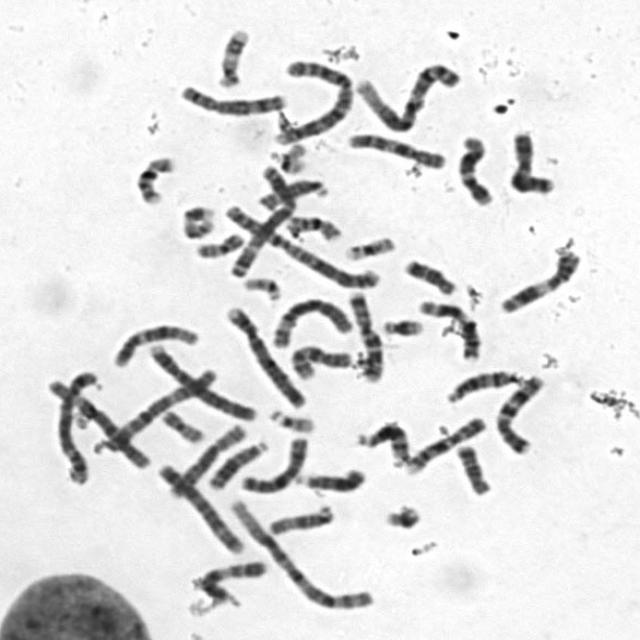A1: (223, 491, 378, 612), (350, 54, 464, 134)
A2: (220, 197, 384, 290), (265, 52, 356, 146)
A3: (88, 362, 220, 456), (223, 158, 298, 278)
B4: (141, 337, 261, 423), (219, 299, 309, 409)
B5: (150, 456, 246, 556), (48, 364, 103, 486)
C10: (340, 125, 449, 170), (283, 338, 355, 382)
C11: (492, 243, 586, 315), (412, 292, 485, 362)
C12: (106, 315, 202, 368), (452, 128, 497, 208)
C6: (40, 371, 154, 470), (266, 291, 355, 350)
C7: (488, 367, 548, 457), (341, 284, 386, 384)
C8: (161, 416, 250, 500), (172, 78, 290, 117)
C9: (400, 409, 489, 476), (188, 554, 271, 606)
D13: (200, 432, 272, 491), (287, 460, 369, 494)
D14: (439, 362, 525, 405), (349, 414, 414, 468)
D15: (251, 171, 331, 211), (262, 497, 338, 537)
E16: (128, 148, 179, 206), (279, 207, 344, 242)
E17: (210, 21, 252, 90), (175, 199, 218, 241)
E18: (397, 252, 460, 296), (450, 437, 495, 497)
F19: (338, 229, 398, 262), (266, 136, 310, 176)
F20: (154, 403, 208, 444), (189, 225, 247, 259)
G21: (378, 497, 425, 531), (375, 311, 426, 338)
G22: (262, 402, 319, 433), (237, 270, 285, 302)
X: (233, 428, 310, 495), (502, 123, 558, 196)
